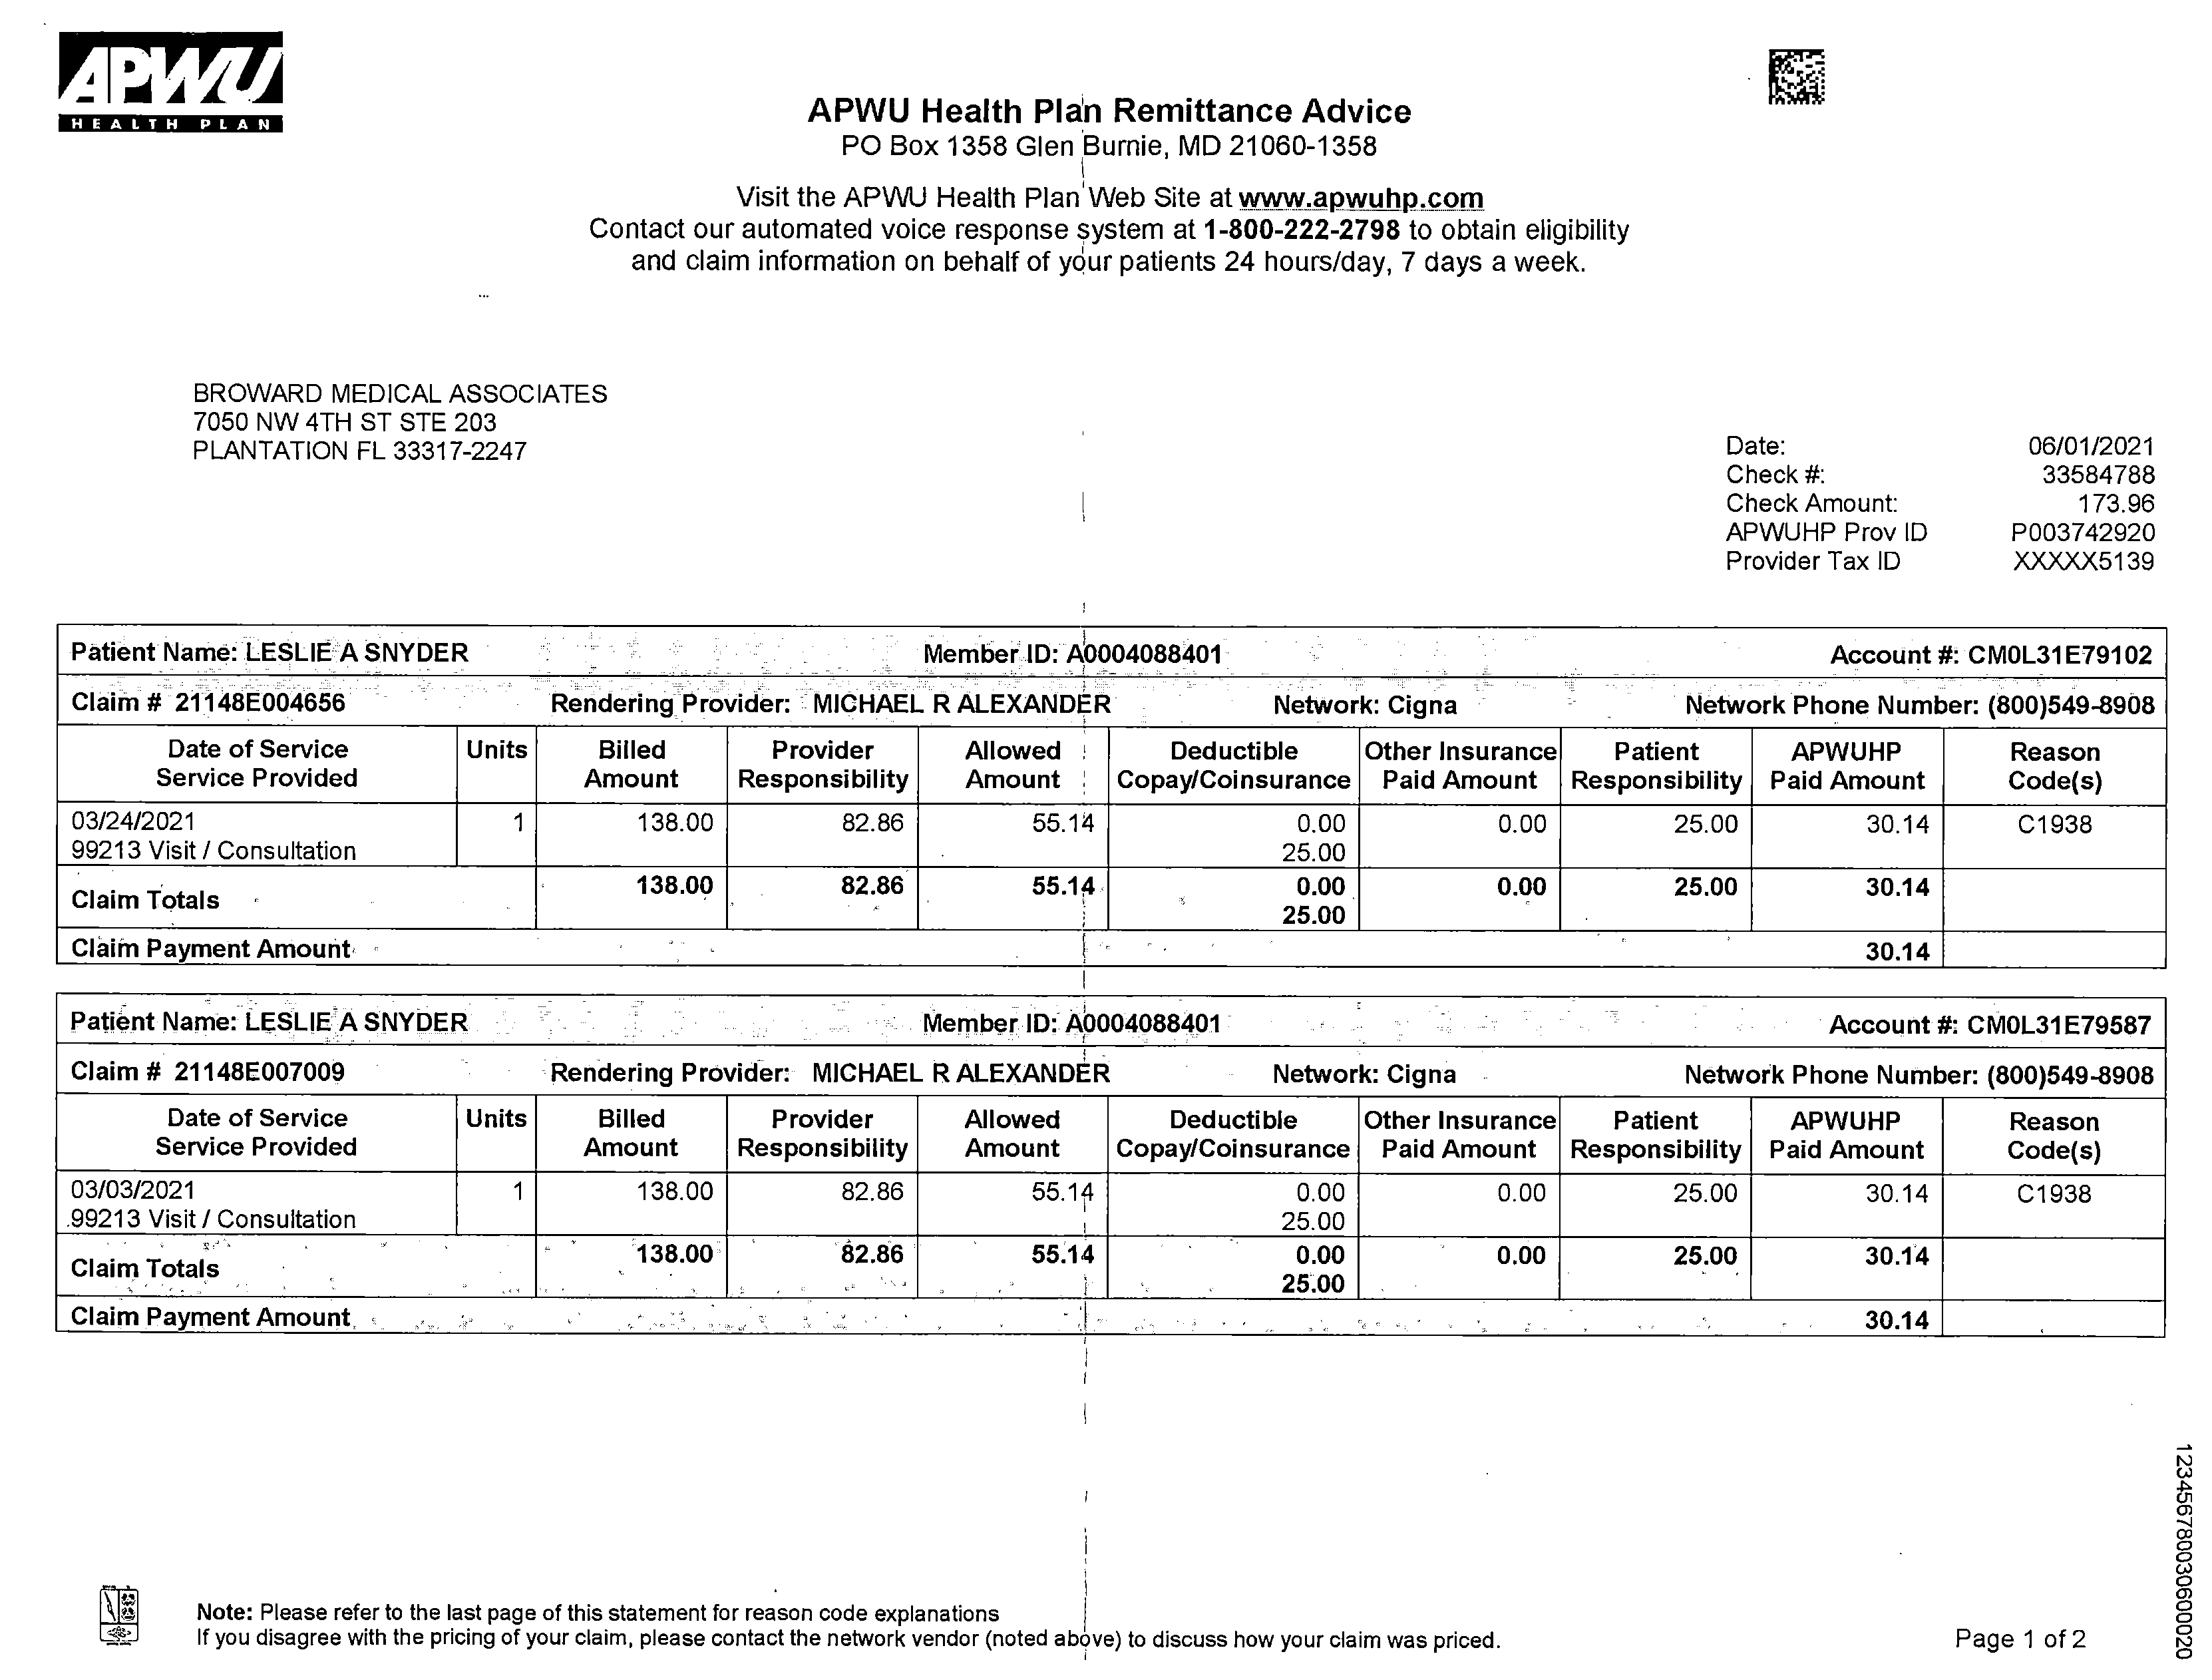data: (1716, 422, 2164, 588), (166, 360, 654, 475)
table: (48, 609, 2171, 979), (46, 986, 2171, 1346)
